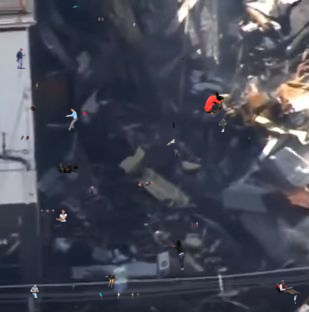Human: (72, 284, 104, 300), (169, 240, 185, 271), (148, 116, 175, 134), (204, 92, 224, 114), (277, 280, 300, 294), (65, 108, 78, 131), (16, 48, 26, 69), (58, 163, 78, 173), (162, 135, 175, 147), (247, 136, 264, 145), (138, 180, 153, 190), (56, 209, 67, 222), (30, 284, 40, 298), (117, 292, 139, 298), (105, 275, 115, 288), (219, 117, 227, 132), (275, 283, 284, 292), (171, 57, 186, 62), (40, 209, 55, 214), (29, 103, 38, 111), (20, 135, 29, 142), (191, 222, 198, 228), (90, 186, 94, 196), (218, 103, 223, 111), (82, 108, 87, 116), (222, 284, 231, 288), (174, 149, 179, 156), (35, 81, 39, 89), (294, 295, 297, 304), (72, 5, 80, 8), (98, 17, 104, 21), (133, 22, 137, 26), (75, 306, 78, 311)
